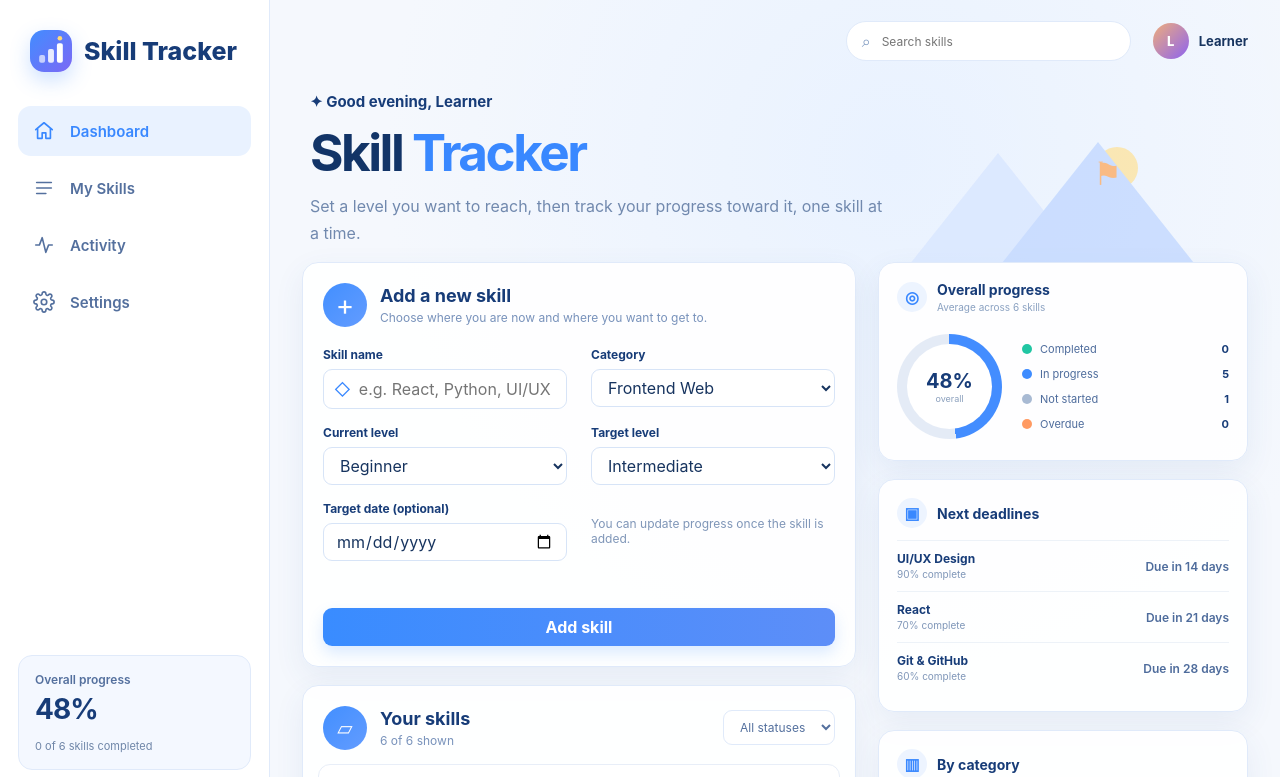
Test: Skill Tracker app › validates the form
Click the button "Add skill": x=579, y=627 [323, 608, 835, 646]
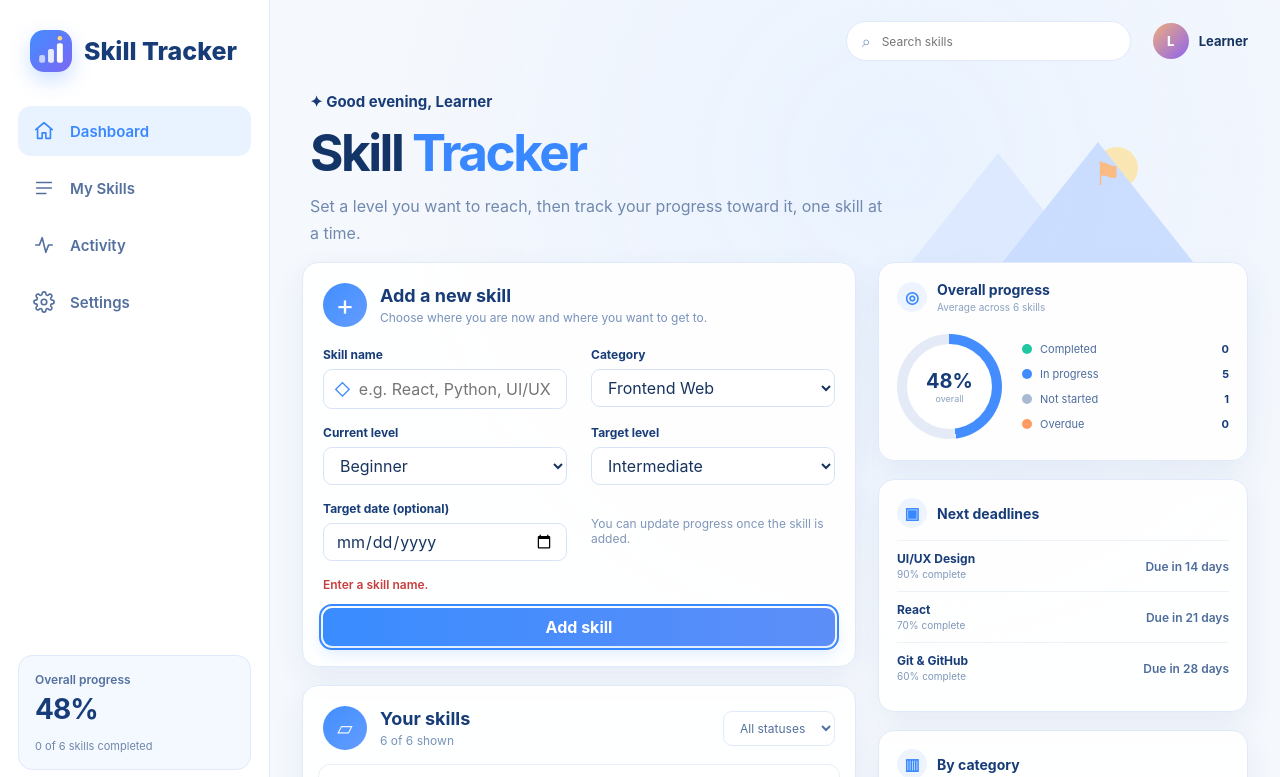
Now the text "Enter a skill name." is shown, box [323, 577, 428, 592]
In the field labelled "Skill name": x=462, y=389 [359, 370, 566, 408], type "react"
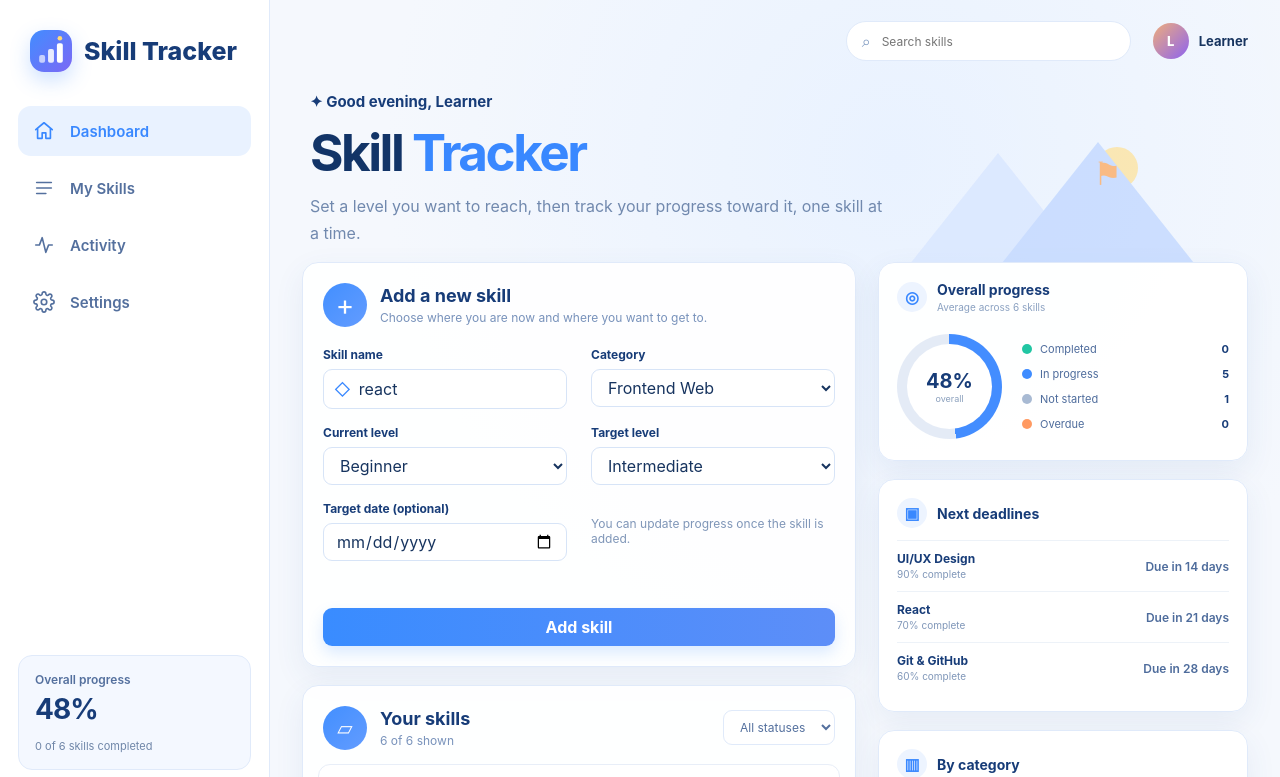
Click the button "Add skill": x=579, y=627 [323, 608, 835, 646]
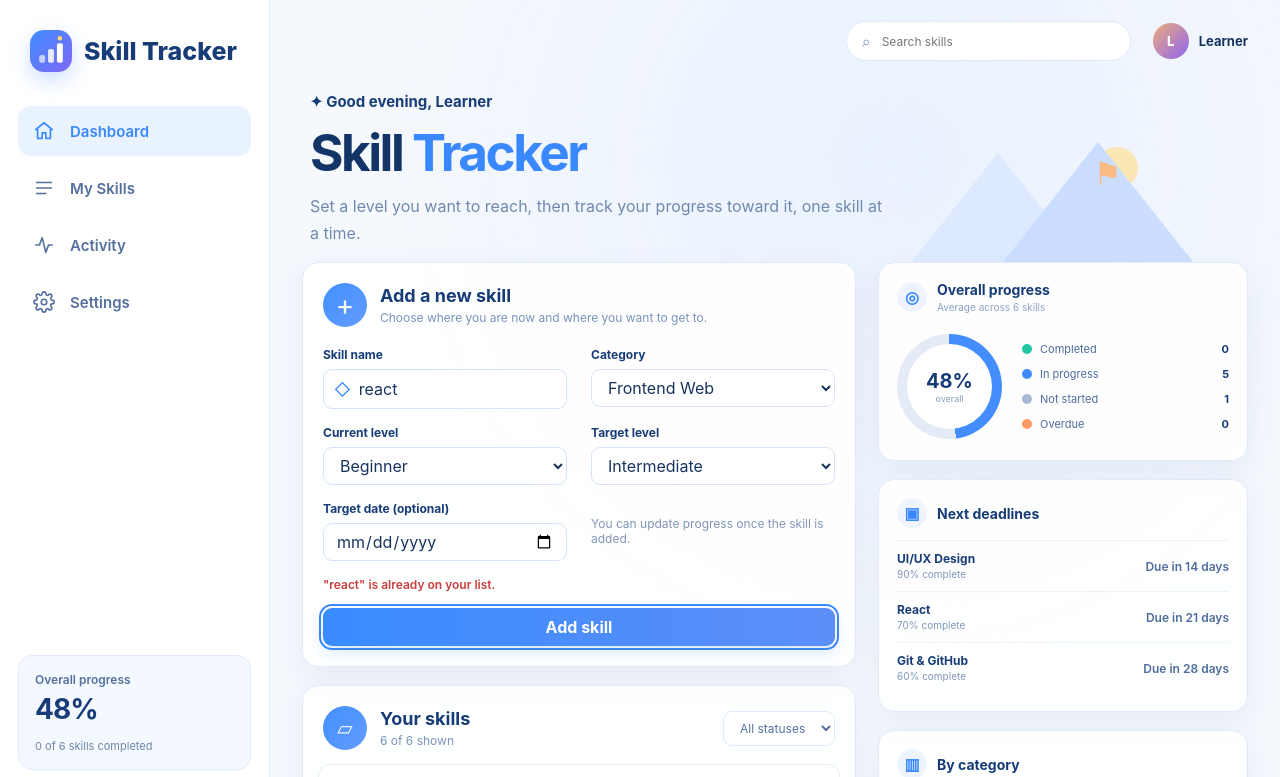
Now the text "\"react\" is already on your list." is shown, box [323, 577, 495, 592]
Replace the text in the field labelled "Skill name" with "Rust": x=462, y=389 [359, 370, 566, 408]
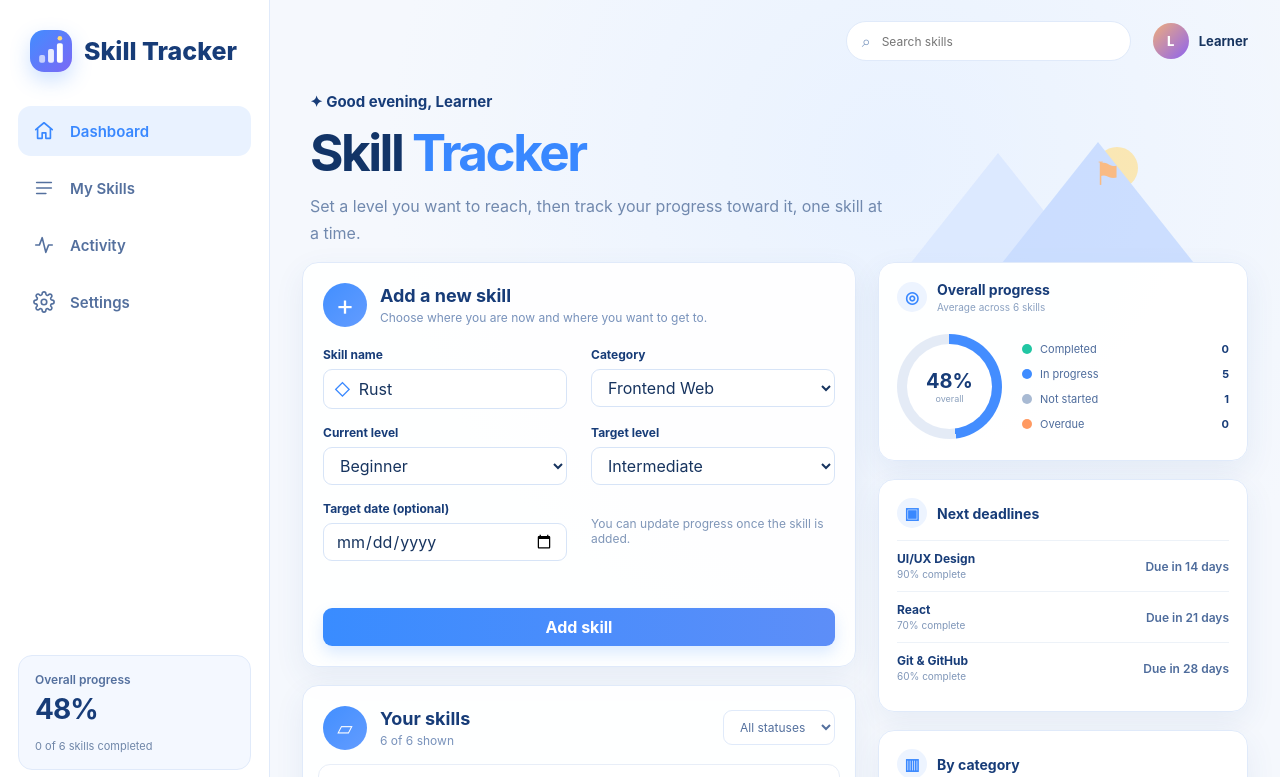
Select "Advanced" in the dropdown labelled "Current level": x=445, y=466 [323, 447, 567, 485]
Select "Beginner" in the dropdown labelled "Target level": x=713, y=466 [591, 447, 835, 485]
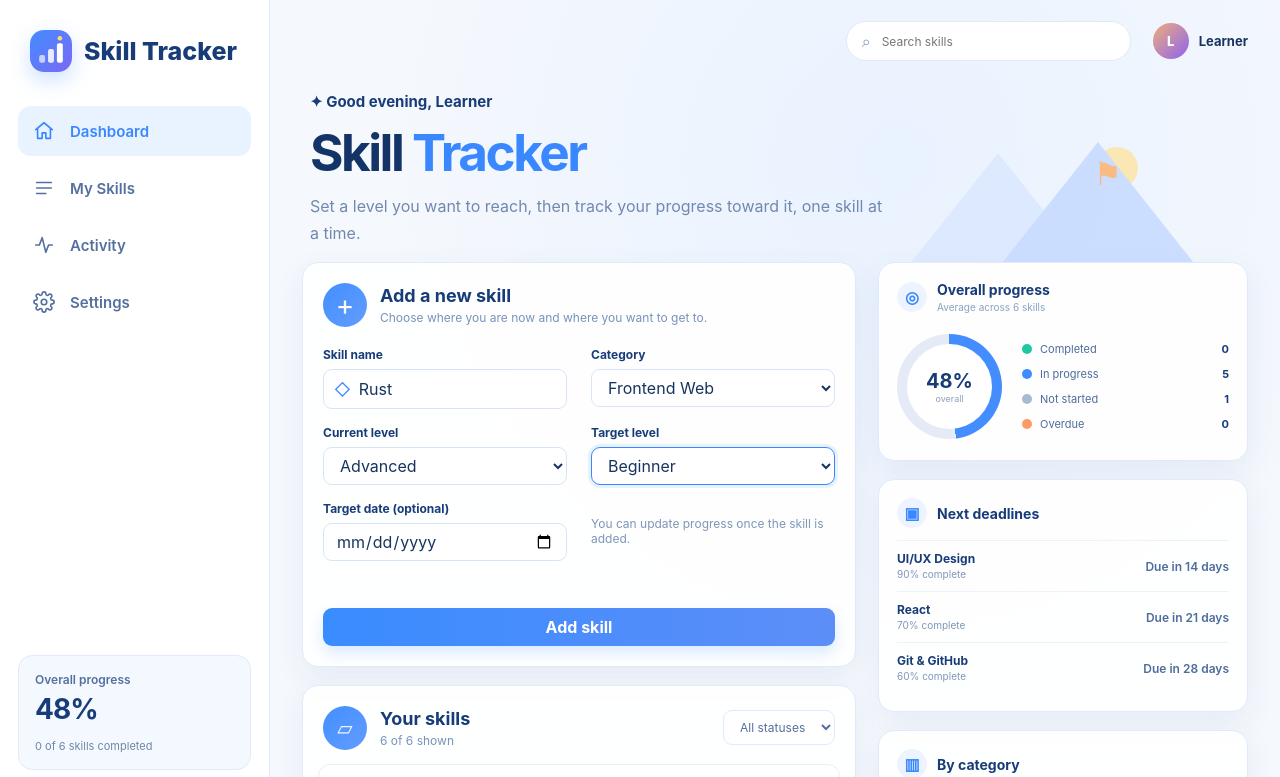
Click the button "Add skill": x=579, y=627 [323, 608, 835, 646]
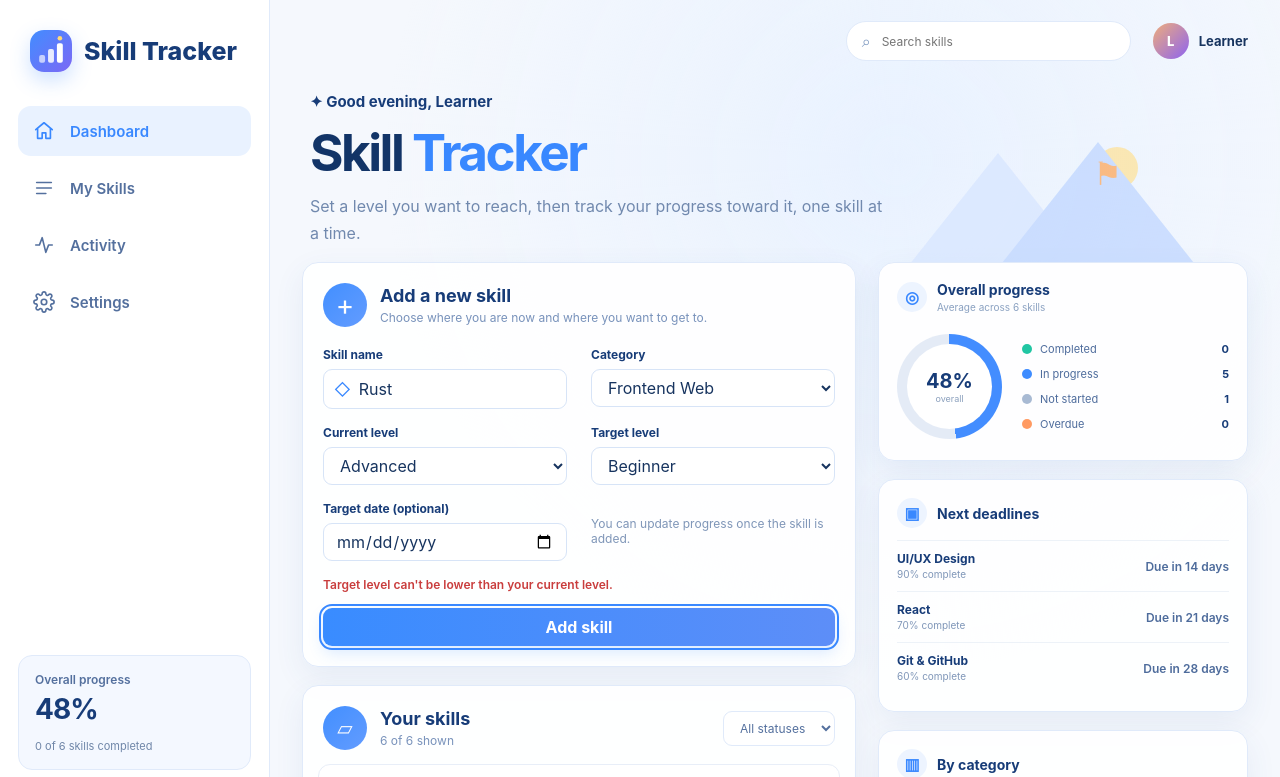
Now the text "Target level can't be lower than your current level." is shown, box [323, 577, 613, 592]
